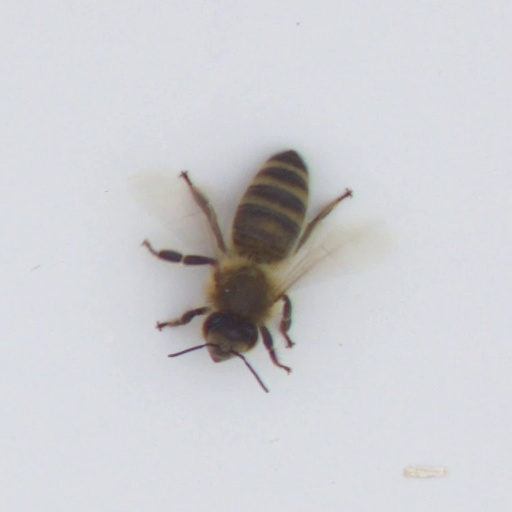Bee: (181, 133, 333, 384)
Thorax: (204, 260, 278, 318)
